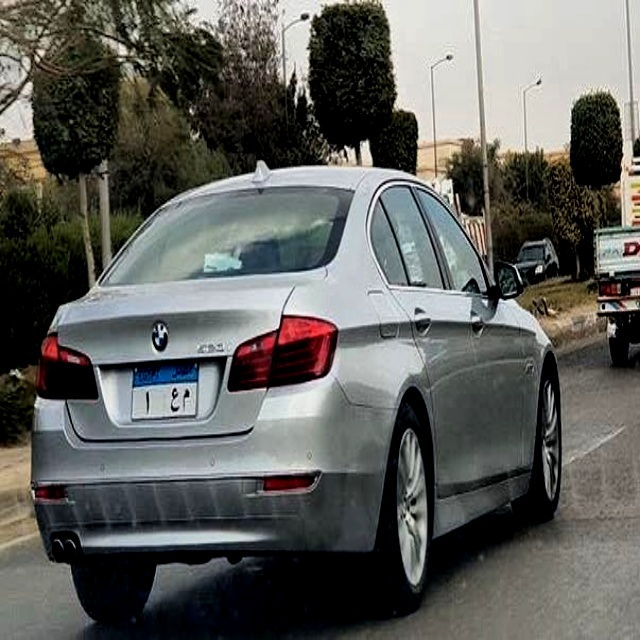License Plate: (129, 357, 201, 425)
